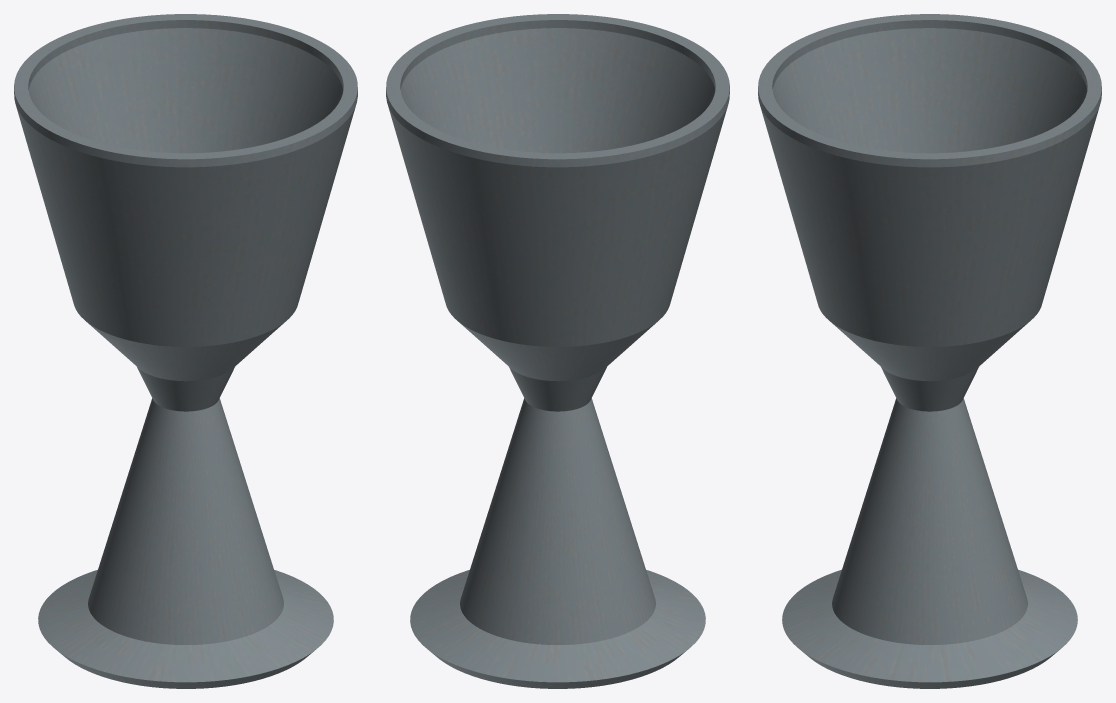
The model's file is misc_imp_silverware_cup_01.dae.
3 views of the same model, side by side, from view 1: azimuth 30°, elevation 25°; view 2: azimuth 150°, elevation 25°; view 3: azimuth 270°, elevation 25° (orthographic).
Visible parts, largest first — view 1: silver; view 2: silver; view 3: silver.
Boxes of the visible parts, x1=… form: silver: x1=14, y1=14, x2=357, y2=688; silver: x1=386, y1=14, x2=729, y2=688; silver: x1=758, y1=14, x2=1101, y2=688.
Size of the model in its own units: 7.73 by 7.73 by 13.53.
